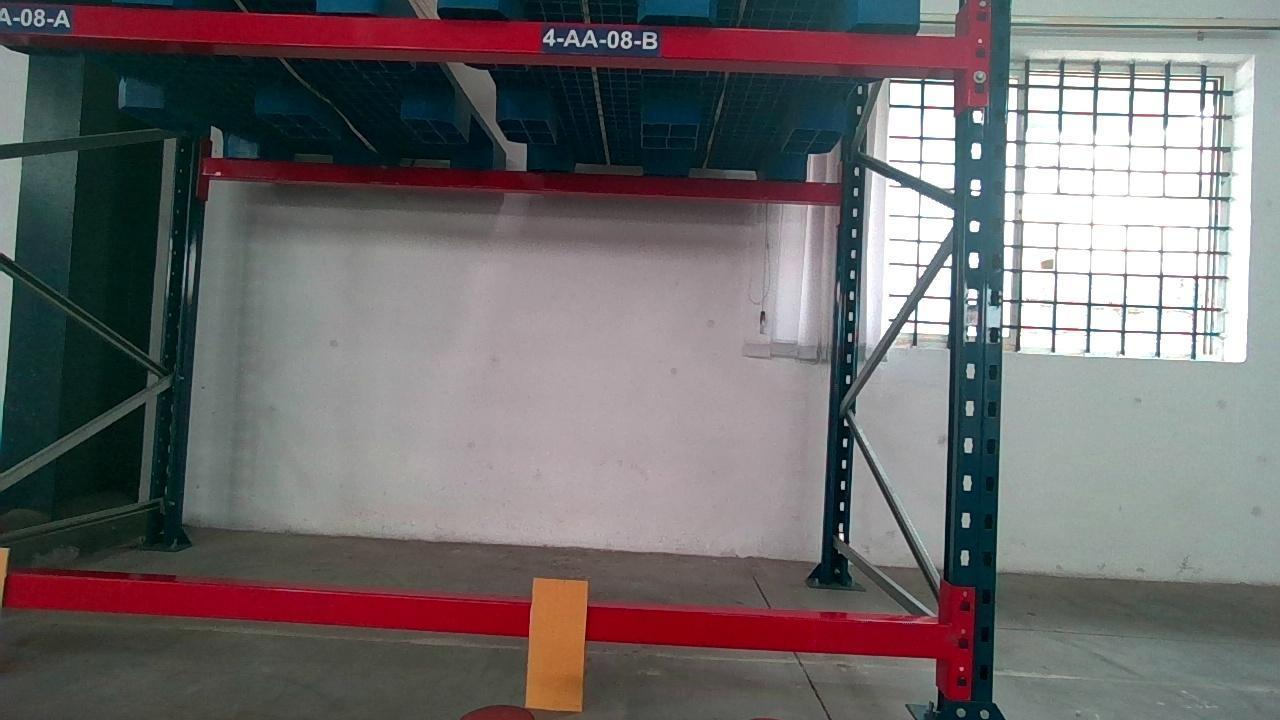h_rack: (3, 569, 944, 661), (2, 2, 963, 71)
orange_strip: (526, 577, 587, 711)
